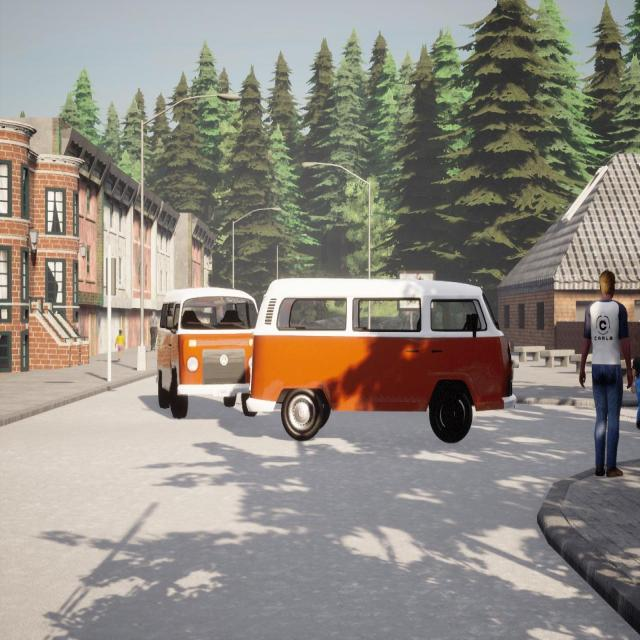Pedestrian: (579, 271, 633, 476), (630, 355, 640, 430), (148, 309, 159, 354), (114, 329, 125, 363)
Vehicle: (247, 279, 515, 442), (157, 288, 256, 420)
traffic_light: (106, 258, 116, 295)
